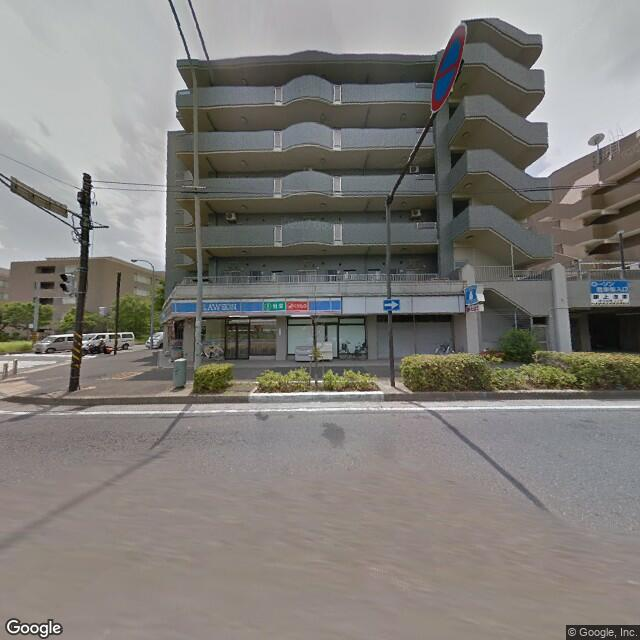lawson: (161, 293, 344, 319)
